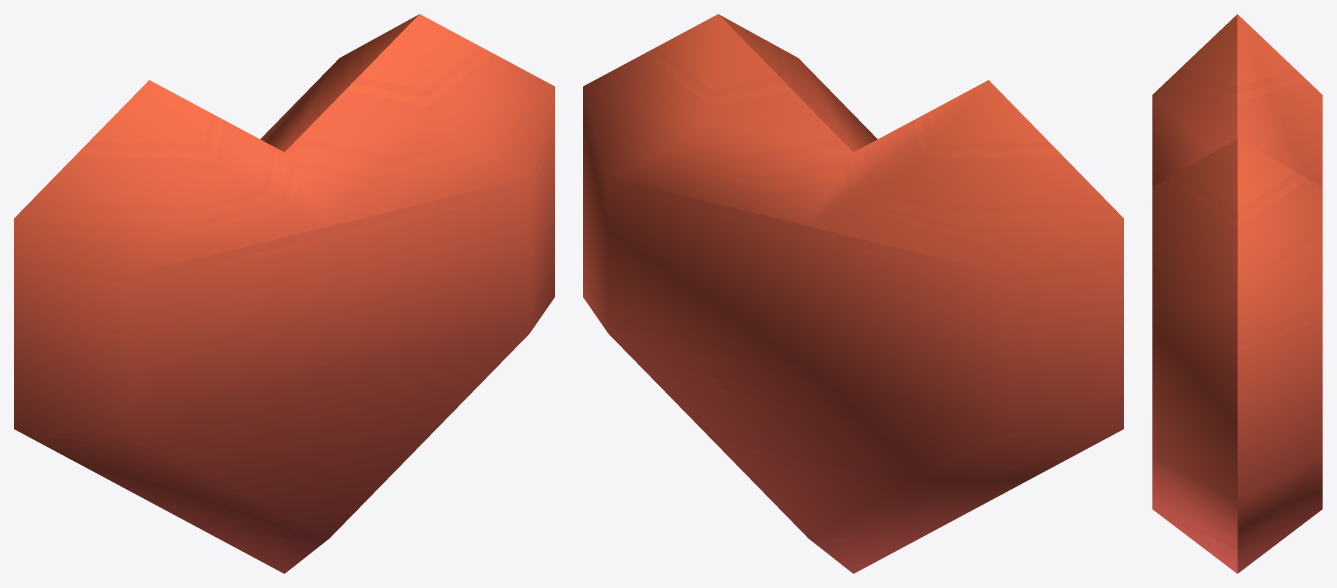
File: heart.glb
3 views of the same model, side by side, from view 1: azimuth 30°, elevation 25°; view 2: azimuth 150°, elevation 25°; view 3: azimuth 270°, elevation 25° (orthographic). The views are drawn at different scales.
Parts seen in each view (by area): view 1: heart; view 2: heart; view 3: heart.
Boxes of the visible parts, <box> form: heart: <box>14,14,554,573</box>; heart: <box>583,14,1123,573</box>; heart: <box>1152,14,1322,573</box>.
Bounding box in the file's own units: 0.4122 × 0.3839 × 0.119.
1 material, 1 textured.
